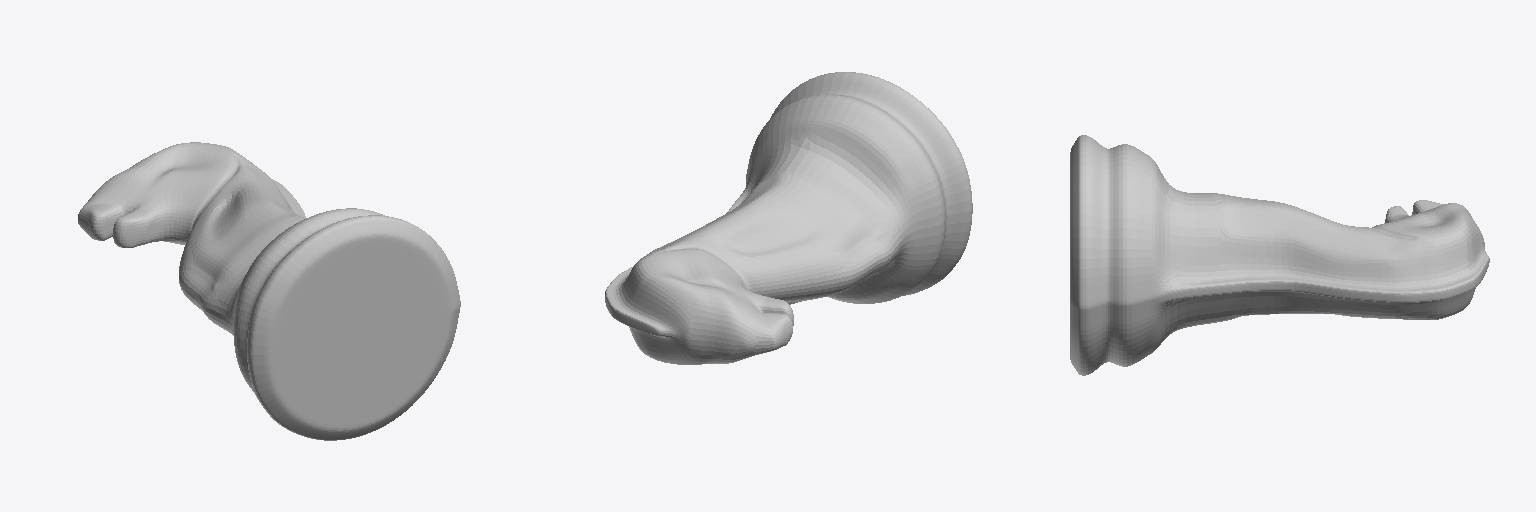
Rendered from knight.obj.
The picture shows the model from 3 angles: view 1: azimuth 30°, elevation 25°; view 2: azimuth 150°, elevation 25°; view 3: azimuth 270°, elevation 25°; orthographic projection.
Parts seen in each view (by area): view 1: Circle.002_Circle.008; view 2: Circle.002_Circle.008; view 3: Circle.002_Circle.008.
Part boxes in pixels (left/top/right/bottom): Circle.002_Circle.008: left=78, top=142, right=460, bottom=440; Circle.002_Circle.008: left=605, top=72, right=972, bottom=364; Circle.002_Circle.008: left=1070, top=135, right=1489, bottom=375.
Bounding box in the file's own units: 0.0289 × 0.0286 × 0.0498.